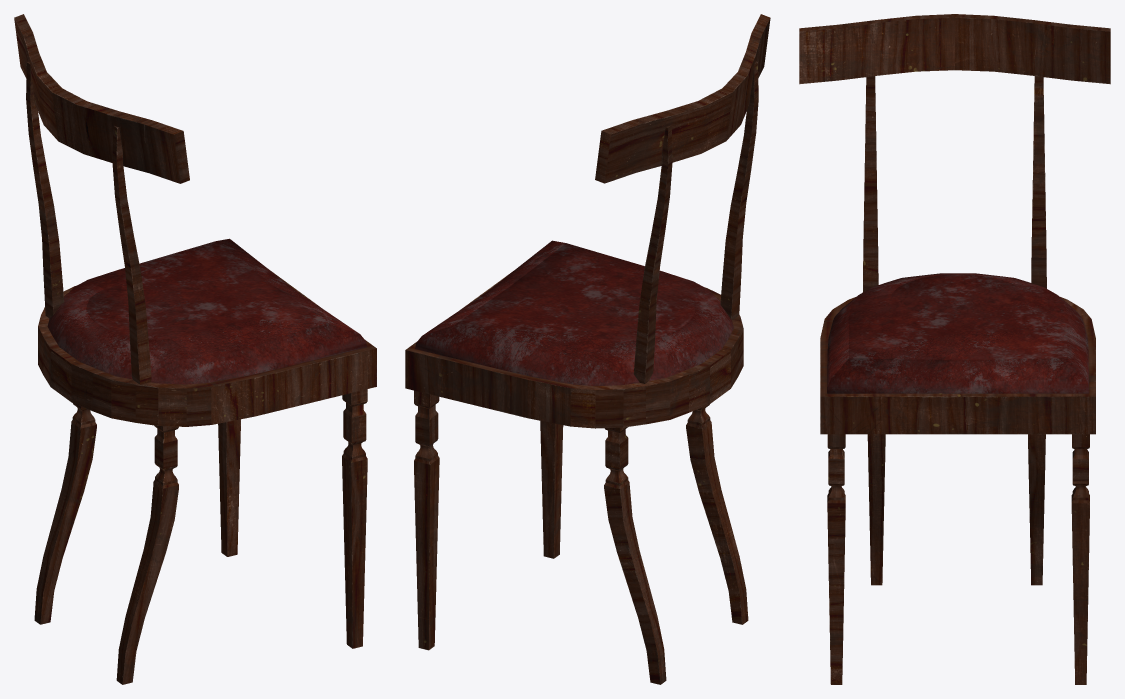
The model's file is MansionDiningChair.fbx.
The picture shows the model from 3 angles, left to right: view 1: azimuth 30°, elevation 25°; view 2: azimuth 150°, elevation 25°; view 3: azimuth 270°, elevation 25°; orthographic projection. The views are drawn at different scales.
Parts seen in each view (by area): view 1: defaultMaterial, defaultMaterial.001, defaultMaterial.002; view 2: defaultMaterial, defaultMaterial.001, defaultMaterial.002; view 3: defaultMaterial, defaultMaterial.001, defaultMaterial.002.
Boxes of the visible parts, x1,y1,x2,y2 form: defaultMaterial: (14, 14, 376, 426); defaultMaterial.001: (47, 238, 366, 384); defaultMaterial.002: (34, 389, 367, 684); defaultMaterial: (405, 14, 770, 428); defaultMaterial.001: (415, 240, 733, 385); defaultMaterial.002: (414, 390, 748, 684); defaultMaterial: (799, 14, 1110, 434); defaultMaterial.001: (827, 273, 1089, 393); defaultMaterial.002: (827, 434, 1089, 684).
Bounding box in the file's own units: 988 × 2122 × 1069.
Materials: 1 (1 with a texture image).
